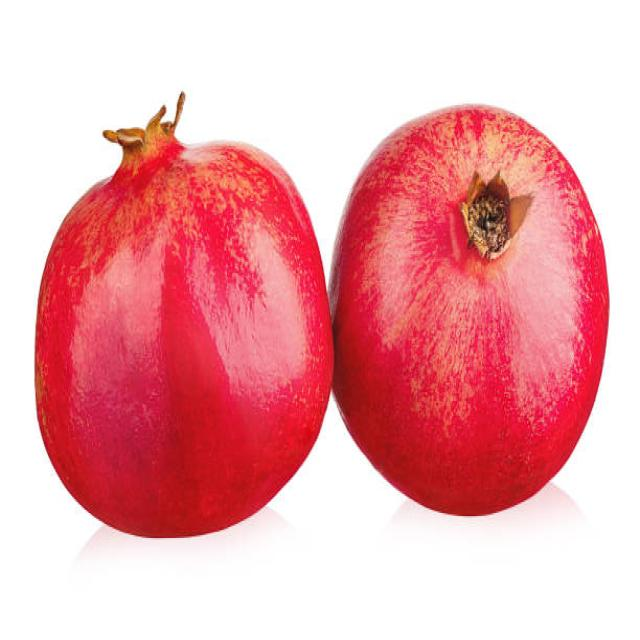Ripe: (34, 79, 337, 538), (328, 96, 612, 519)
